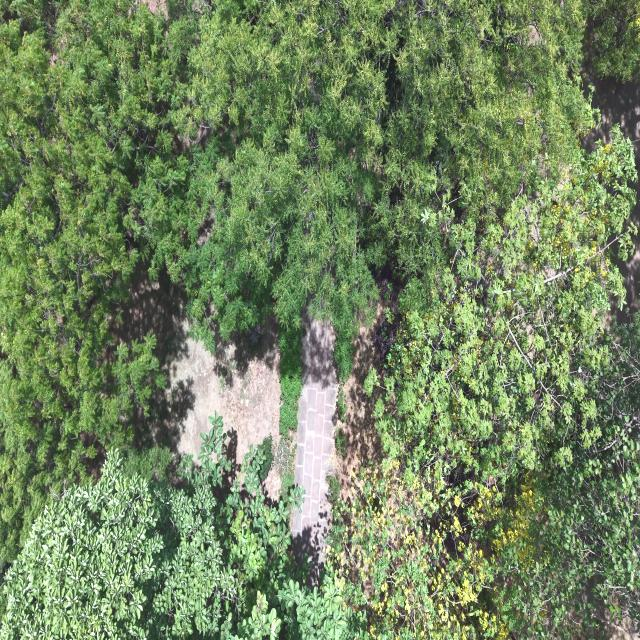DRY_AREA: (114, 264, 289, 498), (122, 265, 286, 497), (113, 264, 280, 463), (292, 304, 393, 579), (166, 310, 280, 496), (165, 319, 280, 498), (110, 262, 195, 453), (169, 323, 279, 464), (168, 325, 280, 463), (334, 272, 401, 497), (334, 278, 399, 497), (334, 279, 399, 498), (172, 332, 280, 463), (329, 295, 396, 500), (333, 296, 399, 502), (172, 338, 279, 461), (334, 302, 391, 497), (292, 383, 336, 574), (171, 338, 222, 457), (584, 69, 639, 170), (584, 73, 639, 169), (605, 616, 639, 639), (143, 0, 168, 19)
PATHWAYS: (292, 316, 337, 581)
VEGETATION_TREE: (0, 0, 639, 639), (2, 1, 593, 433), (136, 1, 593, 377), (330, 126, 639, 639), (332, 136, 639, 639), (0, 0, 164, 561), (0, 417, 347, 639), (584, 0, 639, 80)
